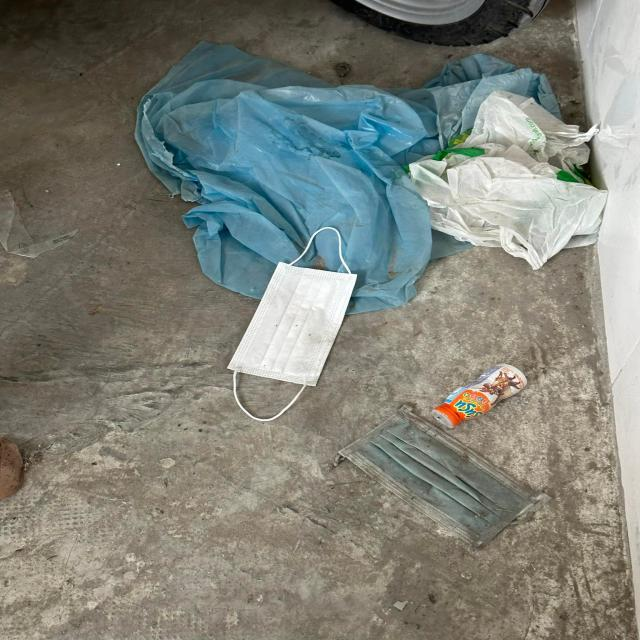bag: (138, 42, 560, 316), (409, 89, 602, 268)
bottle: (432, 363, 528, 429)
mask: (336, 404, 544, 548), (226, 226, 356, 421)
